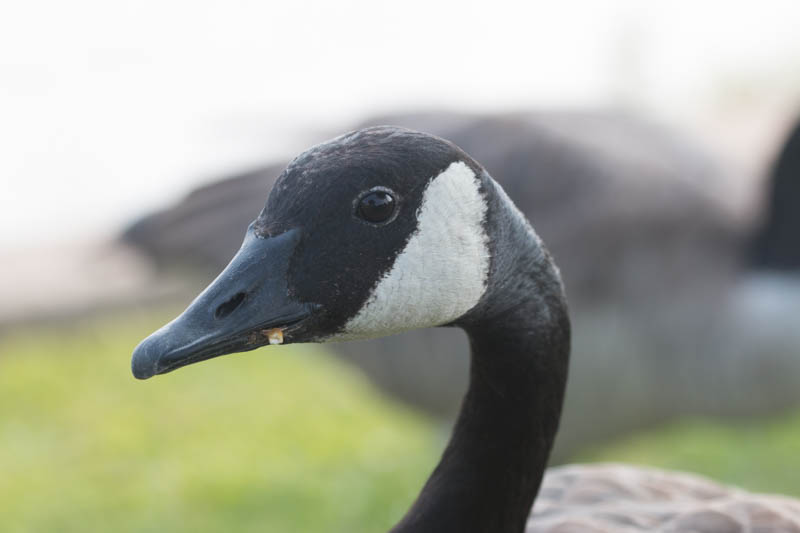goose-head: (130, 125, 526, 379)
